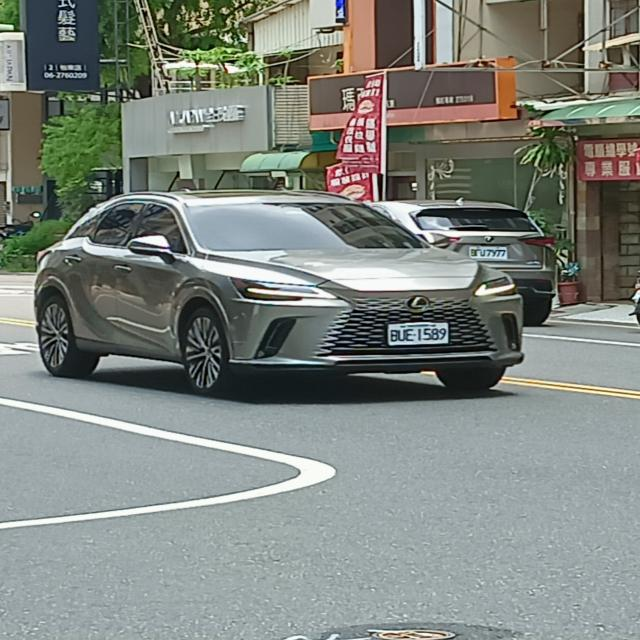license-plate: (385, 323, 462, 347)
